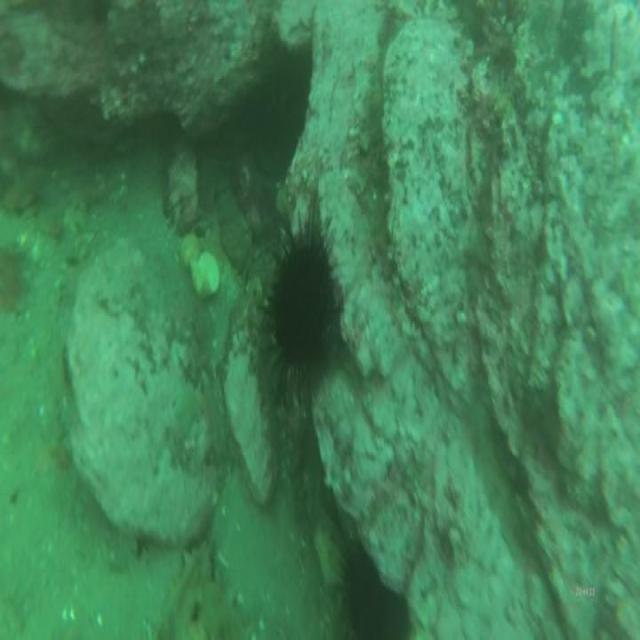echinus: (254, 210, 344, 392), (334, 537, 412, 640)
holothurian: (150, 540, 220, 640)
